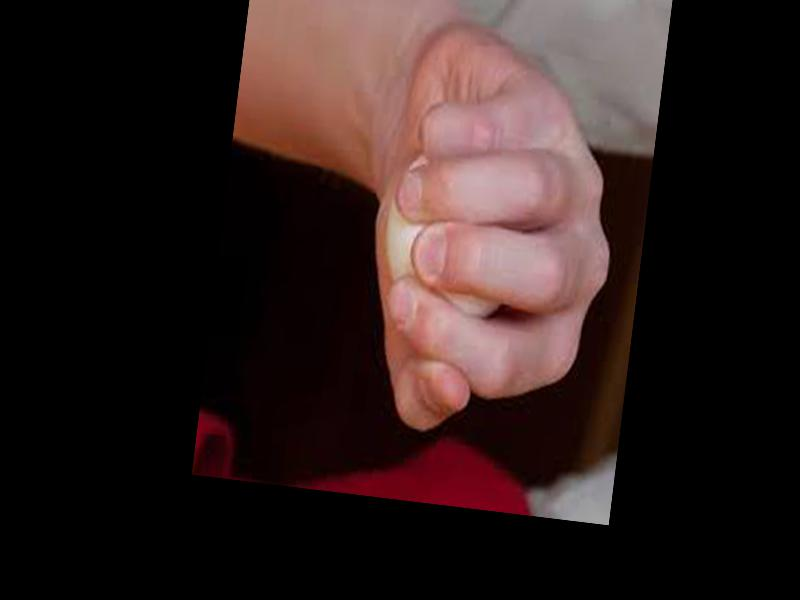Eggs: (373, 151, 519, 339)
